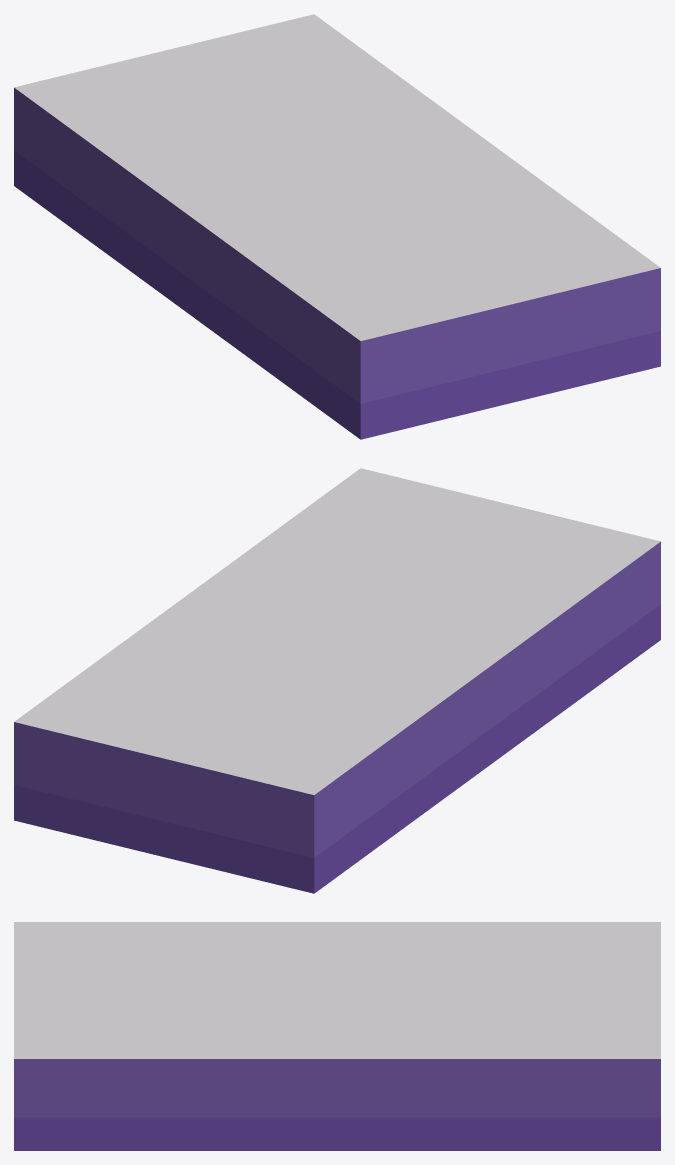
The model's file is Platfrom01.fbx.
3 views of the same model, one above another, from view 1: azimuth 30°, elevation 25°; view 2: azimuth 150°, elevation 25°; view 3: azimuth 270°, elevation 25° (orthographic). The views are drawn at different scales.
Visible parts, largest first — view 1: Platfrom01; view 2: Platfrom01; view 3: Platfrom01.
Part boxes in pixels (<box>): Platfrom01: <box>14,14,660,439</box>; Platfrom01: <box>14,468,660,893</box>; Platfrom01: <box>14,922,660,1150</box>.
Size of the model in its own units: 500 by 157 by 1000.
